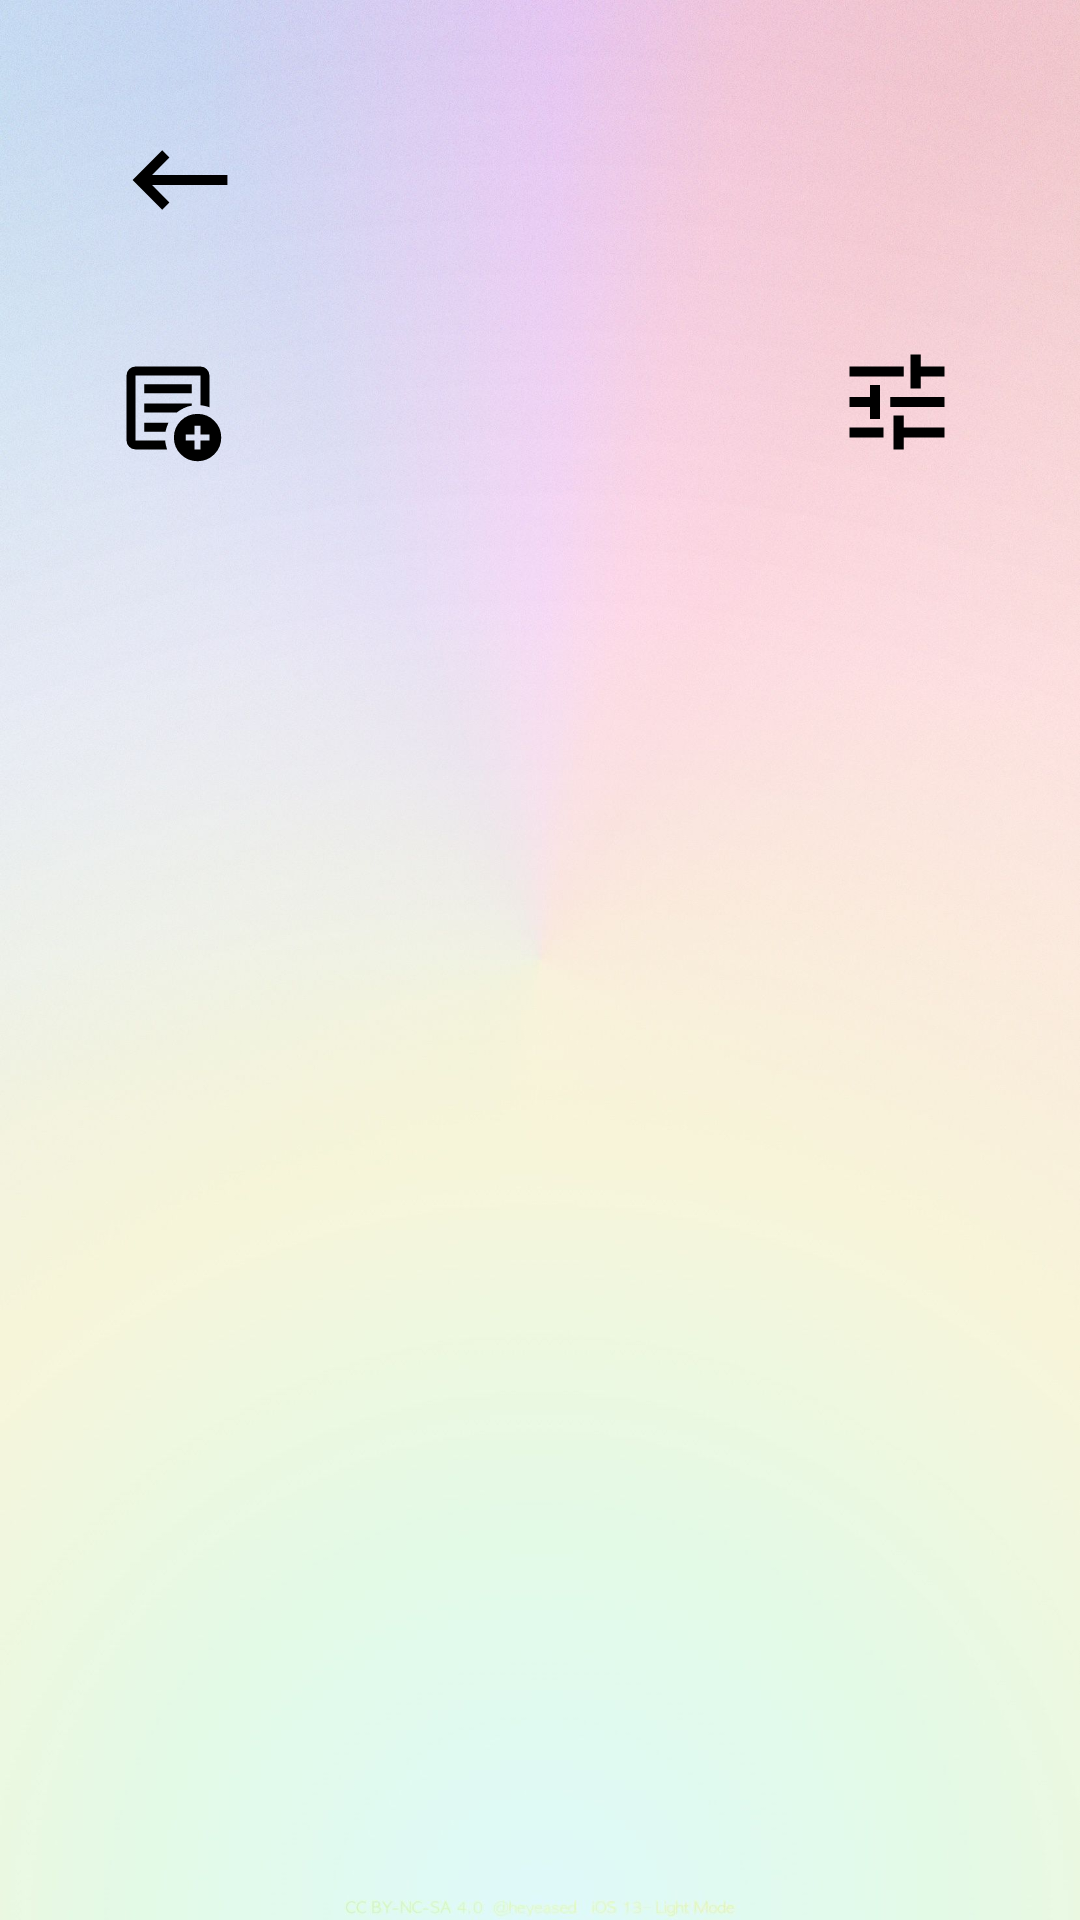

Named icons in this screenshot (1080px x 1920px) and their centers, [x,y]:
add todo: [174,414]
back: [180,180]
sort: [897,402]
